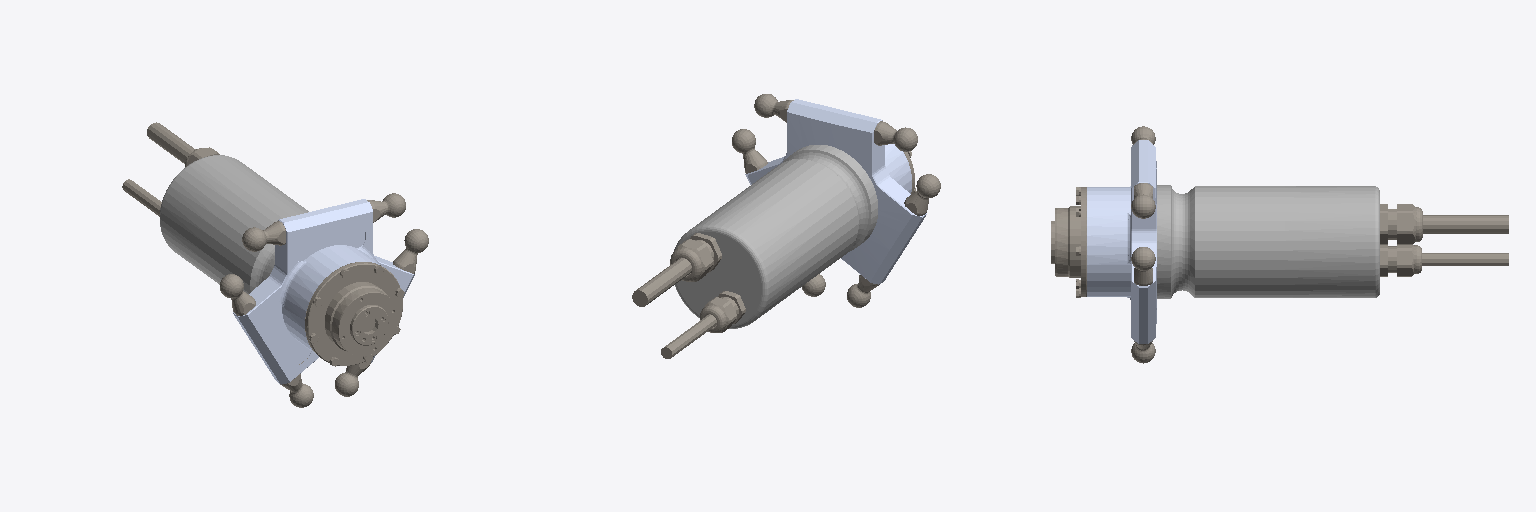
The model's file is abiflexx_d4_1300_end_effector.obj.
The picture shows the model from 3 angles: view 1: azimuth 30°, elevation 25°; view 2: azimuth 150°, elevation 25°; view 3: azimuth 270°, elevation 25°; orthographic projection.
Visible parts, largest first — view 1: mesh 1 AbiFlexx D4-1300_end-effector, mesh 2 Body-Move/Copy1, mesh 3 Body-Move/Copy1 face; view 2: mesh 3 Body-Move/Copy1 face, mesh 2 Body-Move/Copy1, mesh 1 AbiFlexx D4-1300_end-effector; view 3: mesh 3 Body-Move/Copy1 face, mesh 1 AbiFlexx D4-1300_end-effector, mesh 2 Body-Move/Copy1.
Boxes of the visible parts, x1,y1,x2,y2 form: mesh 1 AbiFlexx D4-1300_end-effector: [122, 122, 428, 407]; mesh 2 Body-Move/Copy1: [233, 199, 414, 384]; mesh 3 Body-Move/Copy1 face: [160, 155, 308, 293]; mesh 3 Body-Move/Copy1 face: [674, 145, 877, 328]; mesh 2 Body-Move/Copy1: [745, 99, 926, 284]; mesh 1 AbiFlexx D4-1300_end-effector: [632, 94, 940, 358]; mesh 3 Body-Move/Copy1 face: [1157, 185, 1379, 298]; mesh 1 AbiFlexx D4-1300_end-effector: [1051, 126, 1508, 363]; mesh 2 Body-Move/Copy1: [1087, 140, 1156, 343].
Size of the model in its own units: 0.155 by 0.1369 by 0.2988.